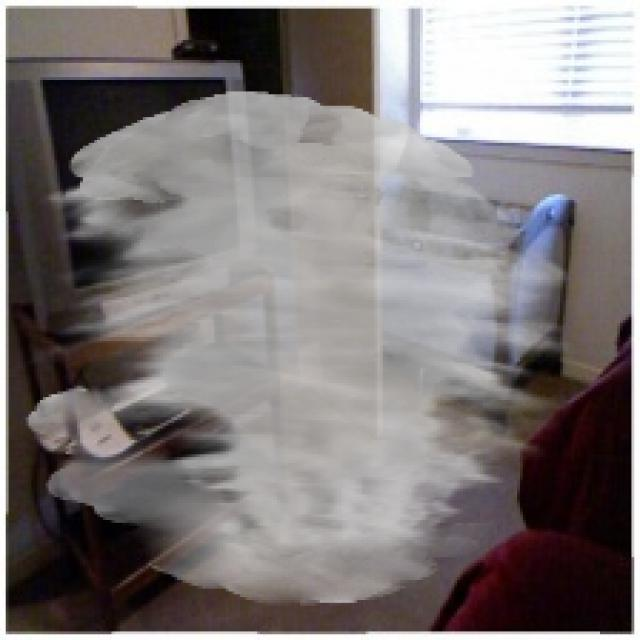smoke: (26, 91, 574, 606)
